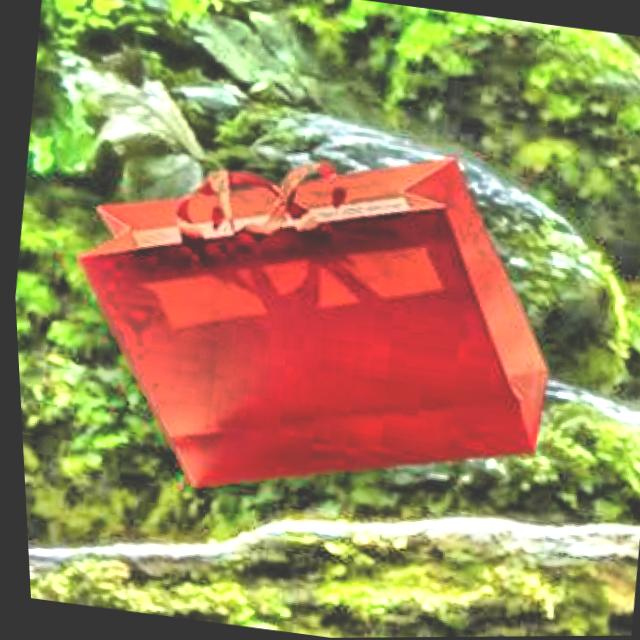Paper-bag: (35, 101, 595, 548)
